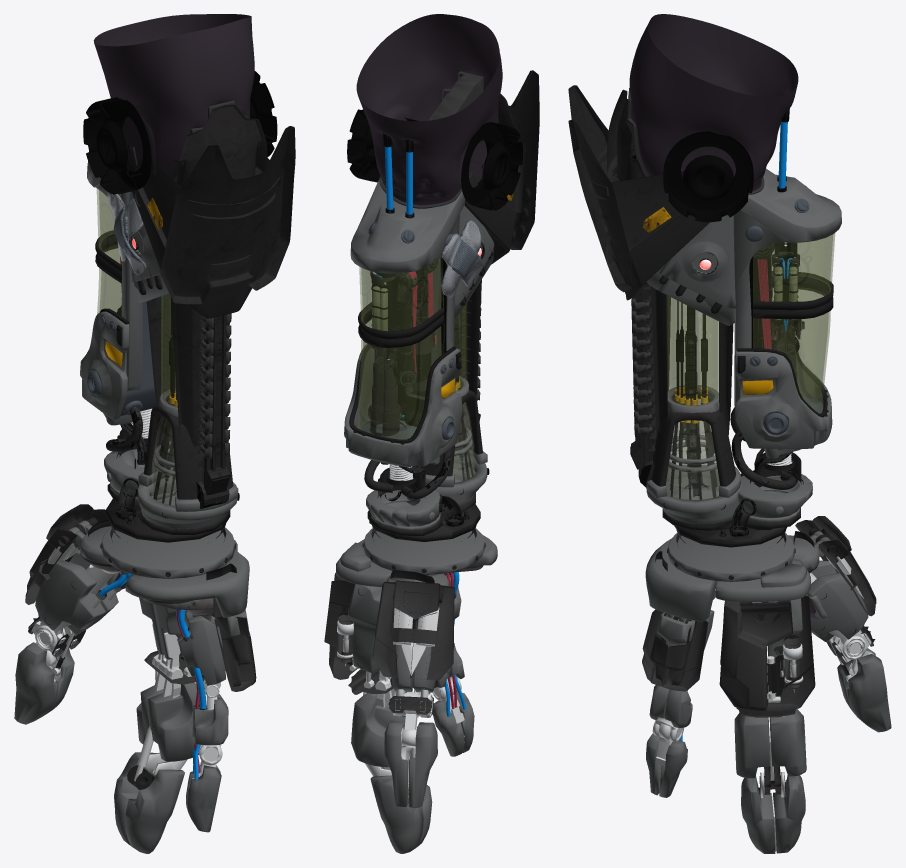
The model's file is tears_of_steel_bionic_arm.glb.
3 views of the same model, side by side, from view 1: azimuth 30°, elevation 25°; view 2: azimuth 150°, elevation 25°; view 3: azimuth 270°, elevation 25° (orthographic). The views are drawn at different scales.
Parts seen in each view (by area): view 1: Object_85, Object_11, Object_18, Object_68, Object_17, Object_26, Object_73, Object_72, Object_100, Object_54, Object_39, Object_10 (+6 smaller); view 2: Object_85, Object_18, Object_72, Object_26, Object_10, Object_17, Object_11, Object_73, Object_68, Object_100, Object_61, Object_54 (+9 smaller); view 3: Object_85, Object_18, Object_72, Object_26, Object_11, Object_68, Object_100, Object_17, Object_10, Object_54, Object_73, Object_61 (+8 smaller).
Boxes of the visible parts, <box> form: Object_85: <box>14,161,249,853</box>; Object_11: <box>127,126,295,318</box>; Object_18: <box>93,14,254,175</box>; Object_68: <box>129,104,267,499</box>; Object_17: <box>83,71,277,194</box>; Object_26: <box>25,504,256,709</box>; Object_73: <box>32,543,222,781</box>; Object_72: <box>97,189,177,505</box>; Object_100: <box>129,191,238,528</box>; Object_54: <box>44,477,236,789</box>; Object_39: <box>199,313,231,459</box>; Object_10: <box>106,305,229,510</box>; Object_85: <box>336,178,497,853</box>; Object_18: <box>356,14,502,205</box>; Object_72: <box>357,258,474,482</box>; Object_26: <box>324,565,482,717</box>; Object_10: <box>362,133,469,518</box>; Object_17: <box>347,109,522,210</box>; Object_11: <box>464,70,539,264</box>; Object_73: <box>337,607,464,797</box>; Object_68: <box>383,93,513,476</box>; Object_100: <box>407,205,494,506</box>; Object_61: <box>349,302,461,444</box>; Object_54: <box>357,493,485,688</box>; Object_85: <box>645,168,891,853</box>; Object_18: <box>629,14,798,191</box>; Object_72: <box>666,233,834,499</box>; Object_26: <box>642,516,876,851</box>; Object_11: <box>568,85,709,300</box>; Object_68: <box>607,89,789,486</box>; Object_100: <box>645,215,741,523</box>; Object_17: <box>663,131,753,222</box>; Object_10: <box>612,108,804,528</box>; Object_54: <box>655,498,856,794</box>; Object_73: <box>652,556,874,850</box>; Object_61: <box>737,271,833,417</box>.
Bounding box in the file's own units: 0.388 × 1.95 × 0.6934.
Materials: 30 (30 with a texture image).
